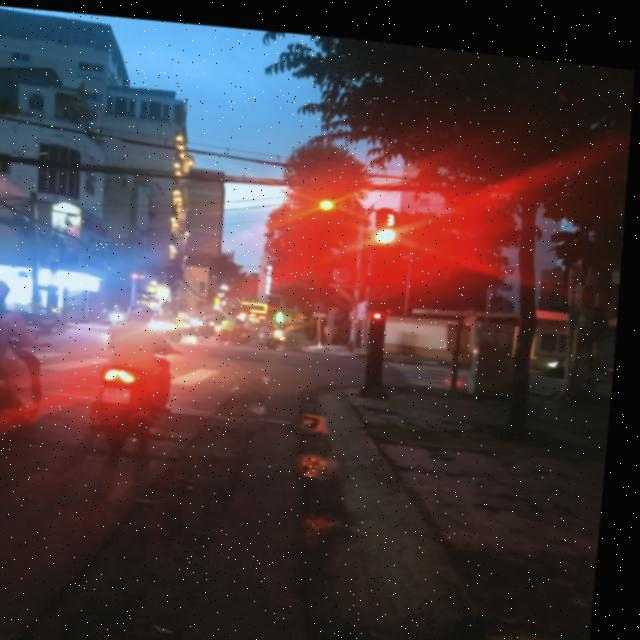Red: (375, 216, 403, 273), (372, 296, 395, 338)
